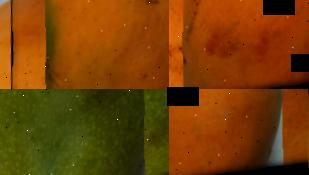Ripe: (3, 0, 169, 89), (169, 0, 309, 89), (169, 89, 309, 175)
Unripe: (0, 89, 169, 175)
